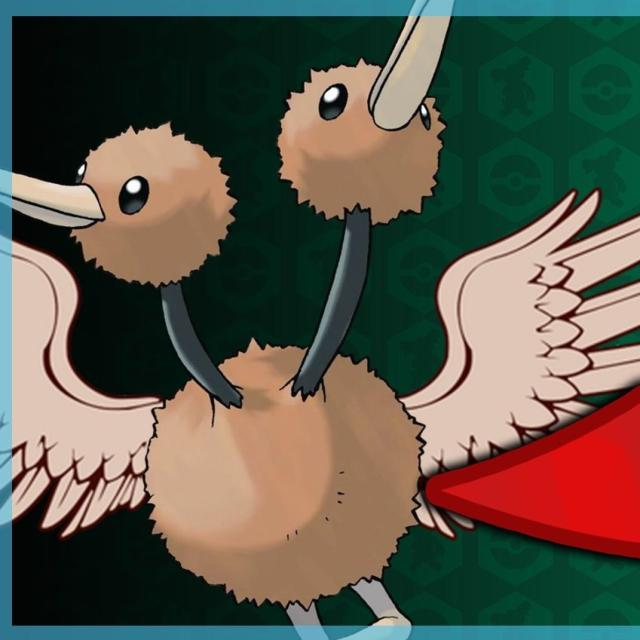Doduo: (36, 53, 466, 631)
